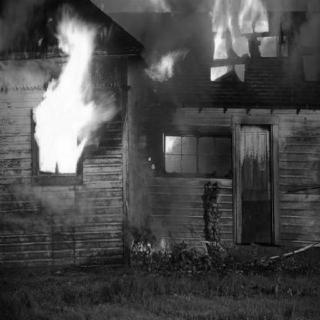Fire: (31, 15, 111, 178)
